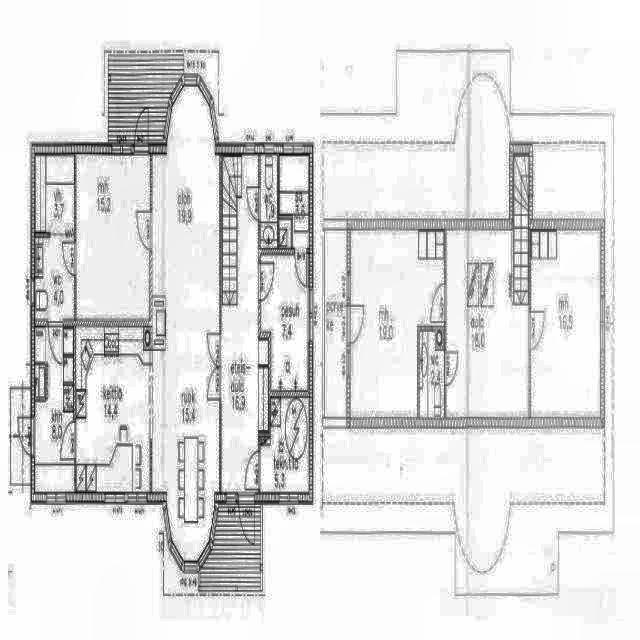room: (350, 229, 444, 417), (446, 229, 529, 416), (530, 229, 601, 417), (75, 326, 150, 492), (76, 154, 149, 319), (34, 327, 75, 492), (261, 254, 308, 391), (260, 398, 309, 492), (35, 237, 74, 318), (35, 155, 75, 233), (279, 155, 309, 248), (420, 331, 444, 417), (260, 154, 277, 249)
